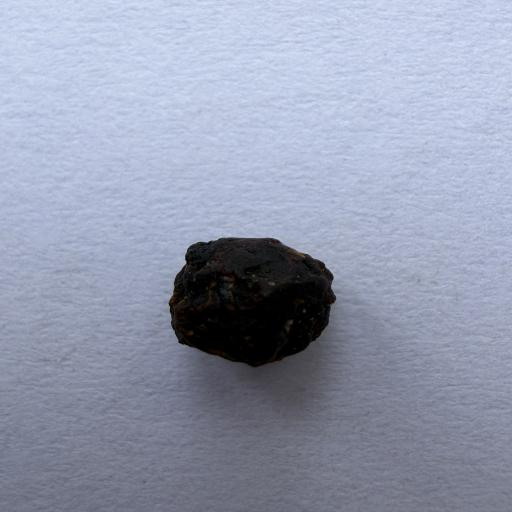Black_pepper: (137, 234, 348, 361)
